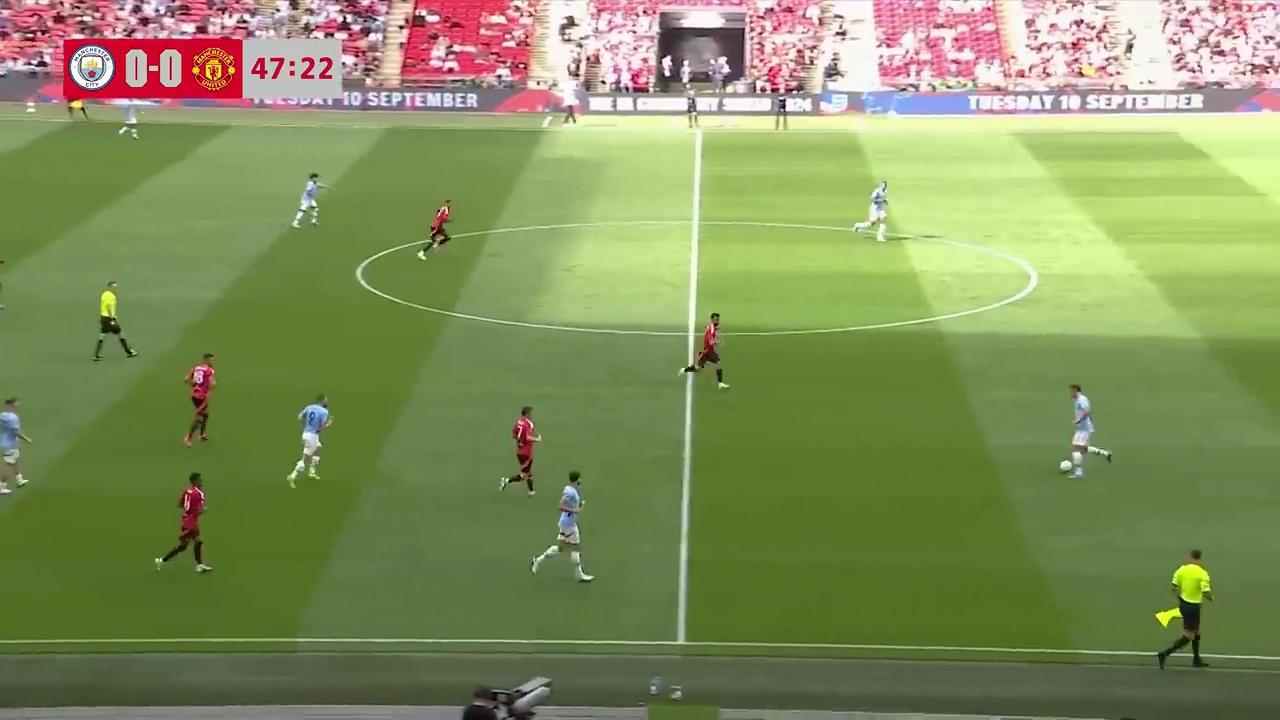ball: (1059, 457, 1070, 473)
player: (532, 471, 587, 585), (154, 472, 210, 575), (1059, 382, 1112, 480), (286, 393, 332, 487), (680, 311, 730, 391), (500, 406, 541, 496), (183, 352, 216, 446), (0, 396, 31, 493), (419, 199, 452, 258), (291, 172, 323, 228), (864, 180, 889, 241), (116, 100, 139, 139), (66, 87, 90, 122)
referee: (1158, 547, 1215, 671), (92, 279, 136, 362), (65, 86, 90, 122)
